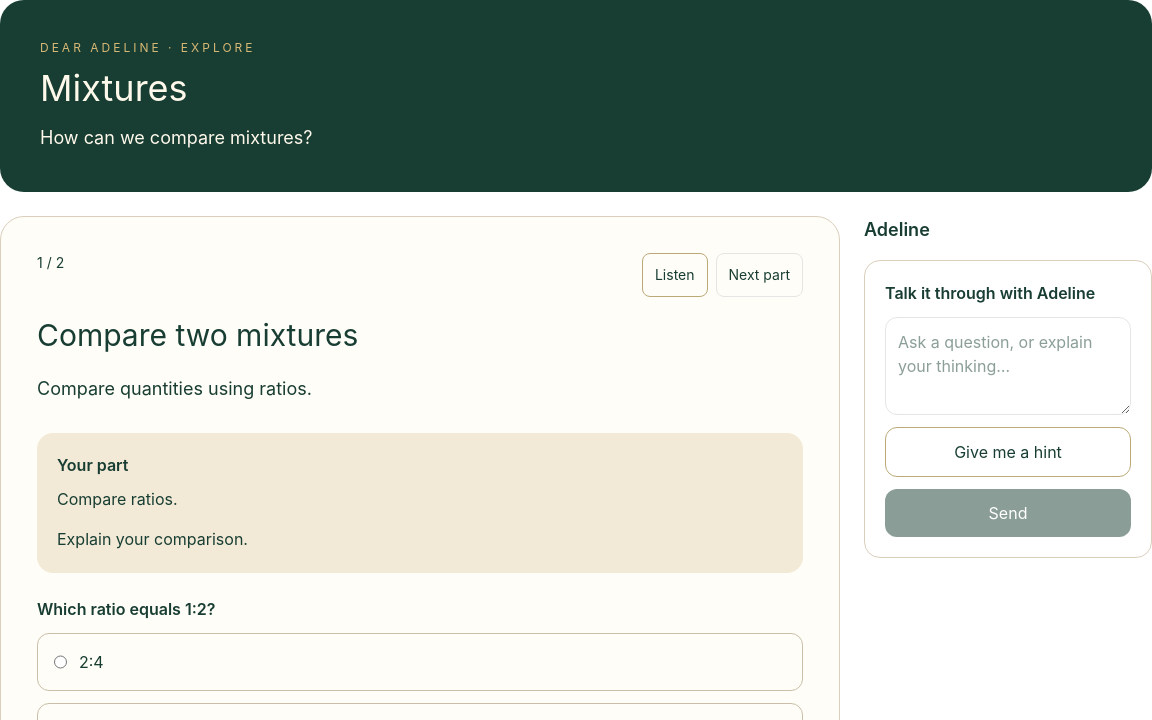
Test: Fresh classroom › asks Adeline about the current scene and displays her saved answer
Type "Why multiply?" into the text box labelled "Talk it through with Adeline".
click(1008, 366); type("Why multiply?")  # box [885,317,1131,415]
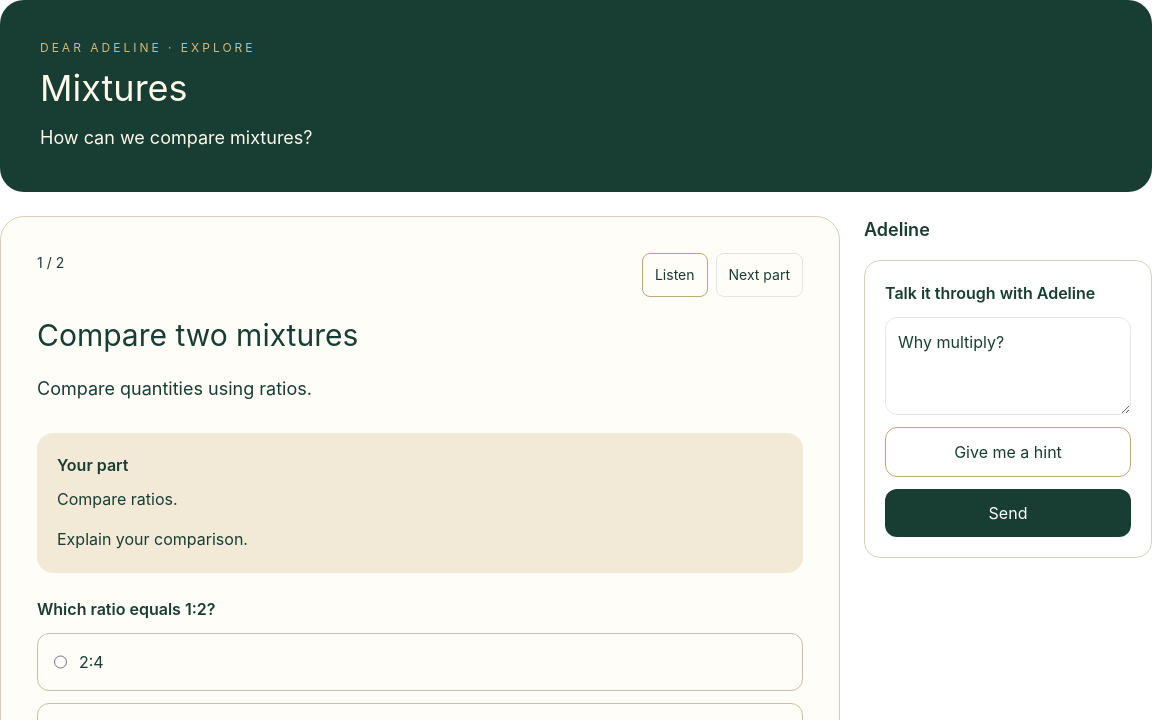
Click the button "Send".
click(1008, 513)  # box [885,489,1131,537]
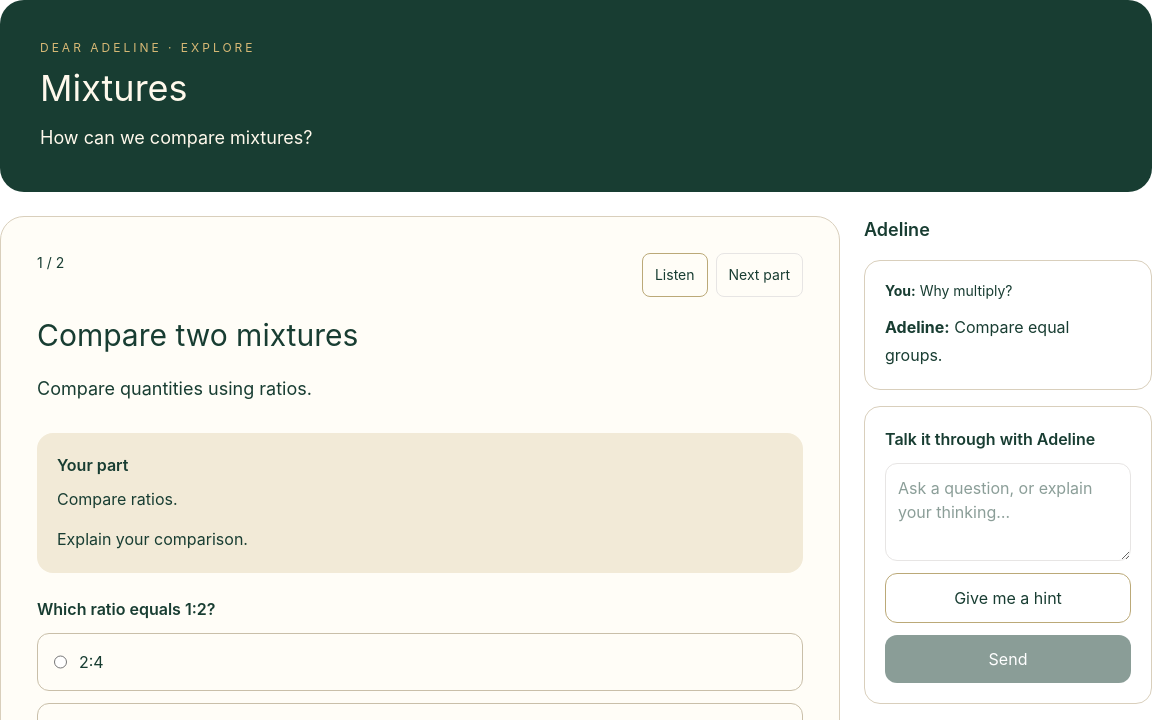
Result: the text "Compare equal groups." is shown at [885,317,1070,365]
